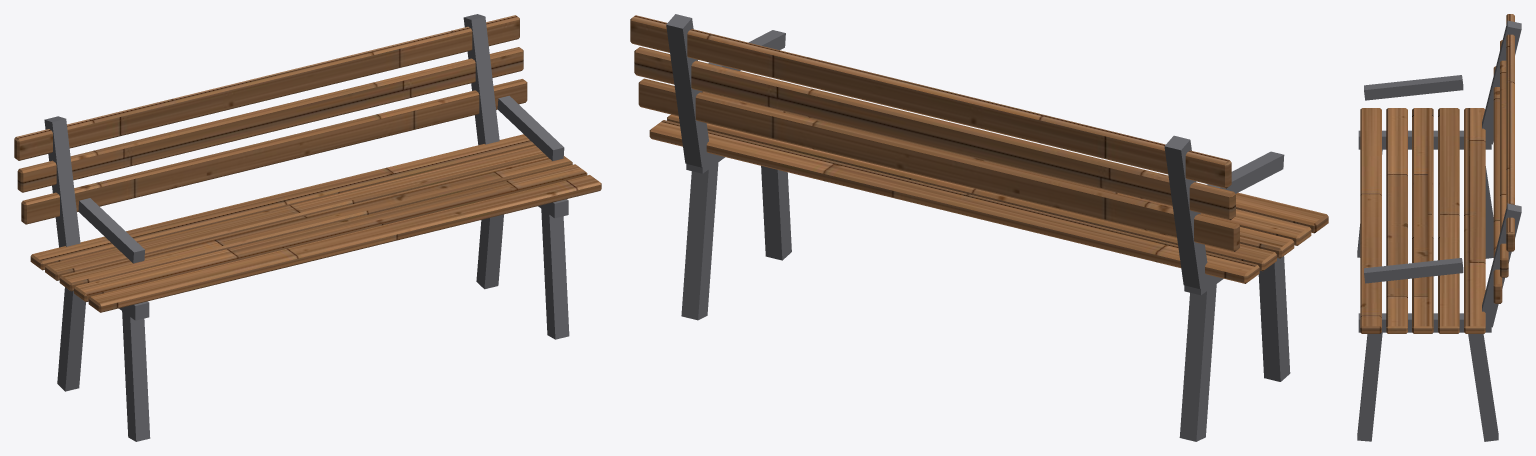
The model's file is bench.glb.
The picture shows the model from 3 angles, left to right: view 1: azimuth 30°, elevation 25°; view 2: azimuth 150°, elevation 25°; view 3: azimuth 270°, elevation 25°; orthographic projection. The views are drawn at different scales.
Parts seen in each view (by area): view 1: bench_wood, bench_iron; view 2: bench_wood, bench_iron; view 3: bench_wood, bench_iron.
Part boxes in pixels (x1,y1,x2,y2): bench_wood: (14,15,601,312); bench_iron: (44,14,569,441); bench_wood: (630,15,1328,283); bench_iron: (666,14,1290,441); bench_wood: (1360,14,1514,333); bench_iron: (1357,20,1521,441).
Bounding box in the file's own units: 1.8 × 0.8889 × 0.5693.
2 materials, 1 textured.
